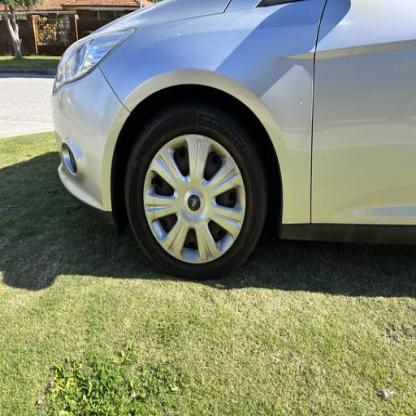Tire: (123, 102, 268, 280)
